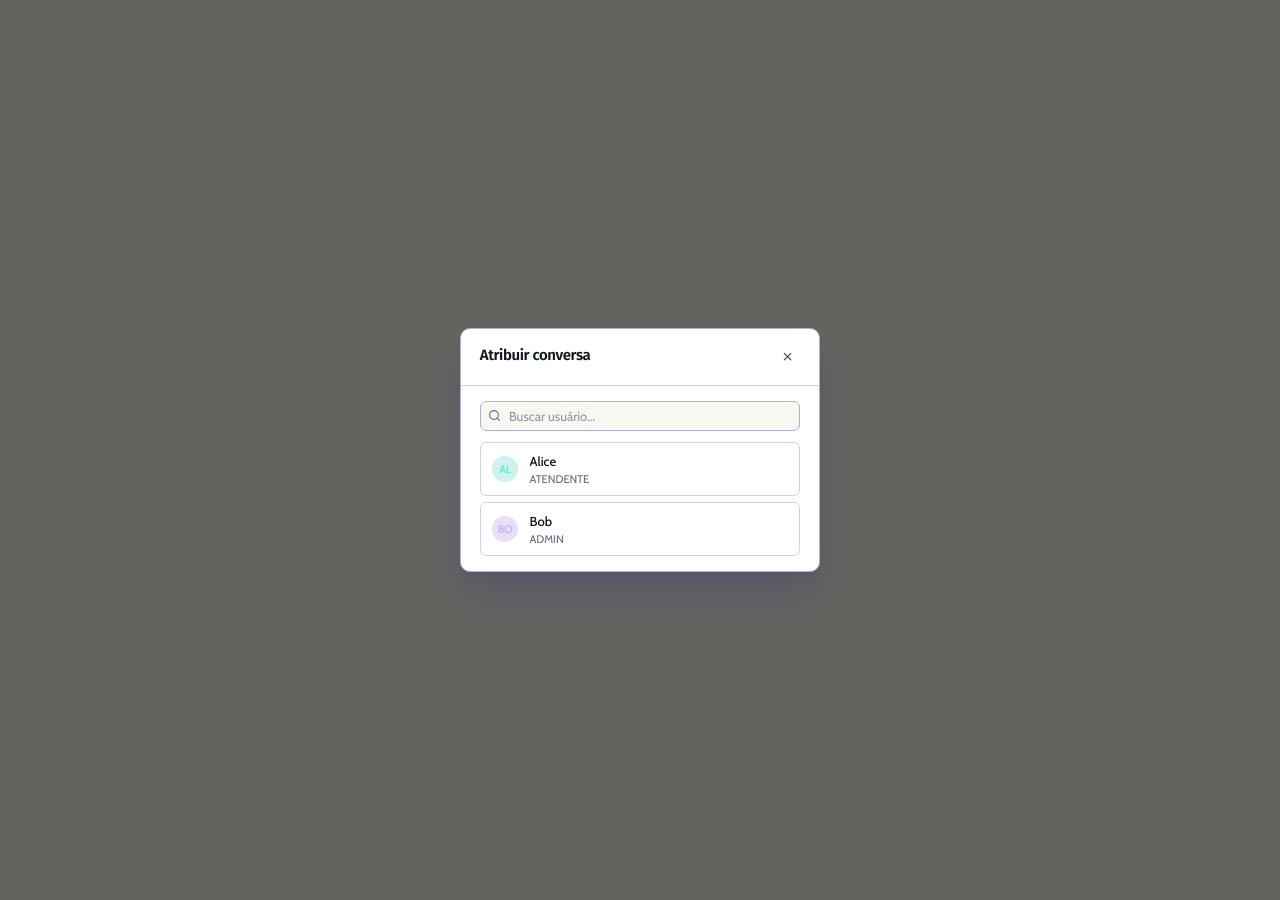
Test: AtribuirModal › mostra mensagem quando nenhum usuário bate com a busca
Step 1. Type "zzz-nao-existe" into the field with placeholder "Buscar usuário…" → (650, 416), box x1=509 y1=406 x2=792 y2=426
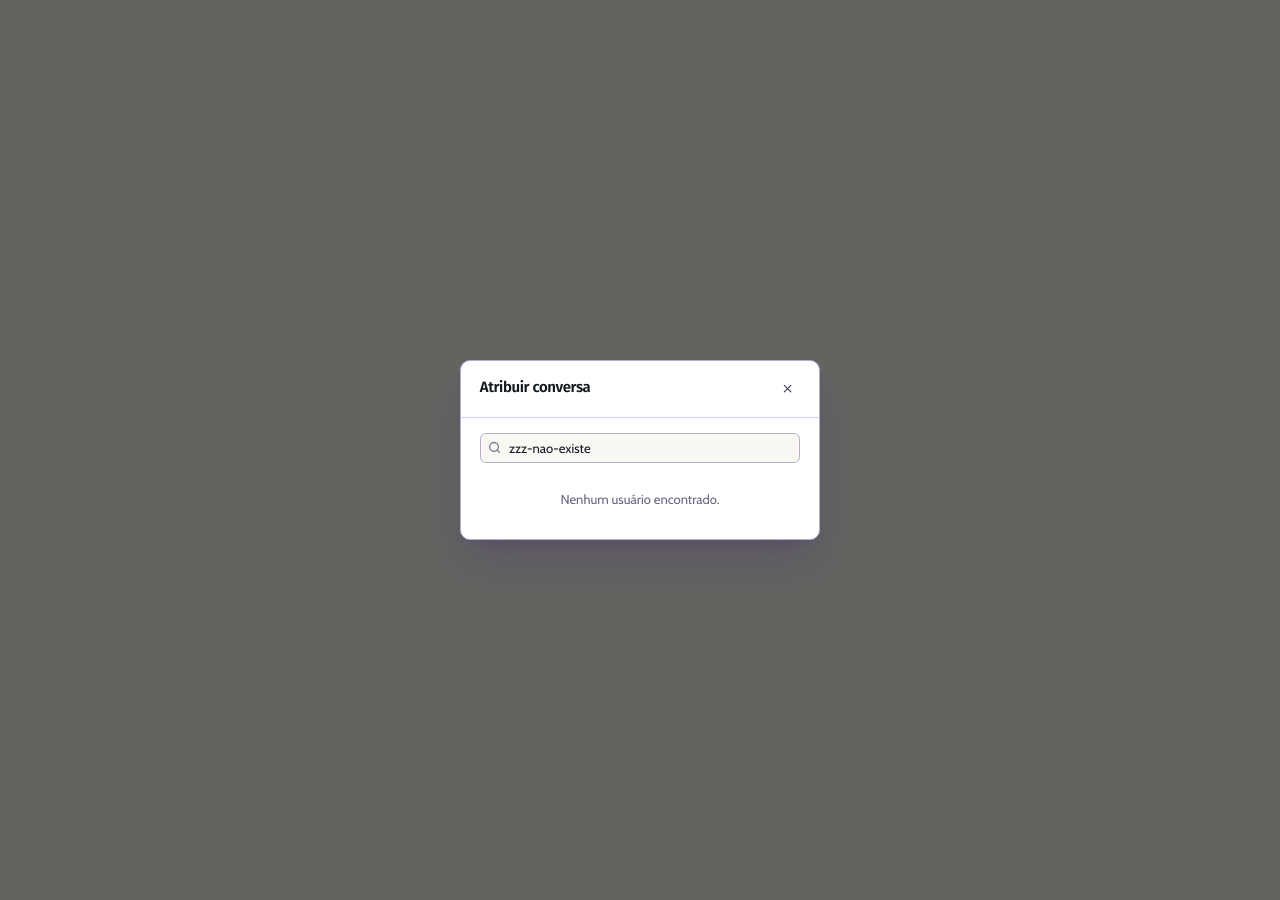
expect the text "Nenhum usuário encontrado." is shown: met, box x1=560 y1=491 x2=720 y2=507
